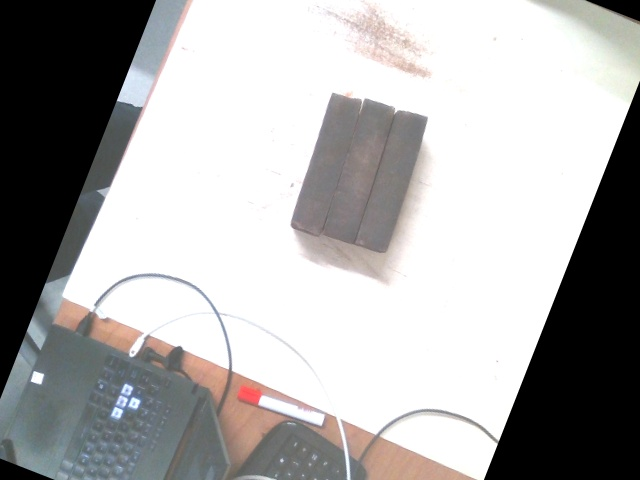brick-side: (290, 90, 363, 233), (324, 100, 396, 243), (355, 108, 427, 251)
